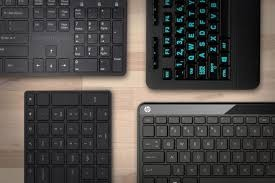keyboard: (136, 105, 275, 183), (145, 0, 260, 88), (0, 0, 129, 73), (23, 89, 109, 183)
